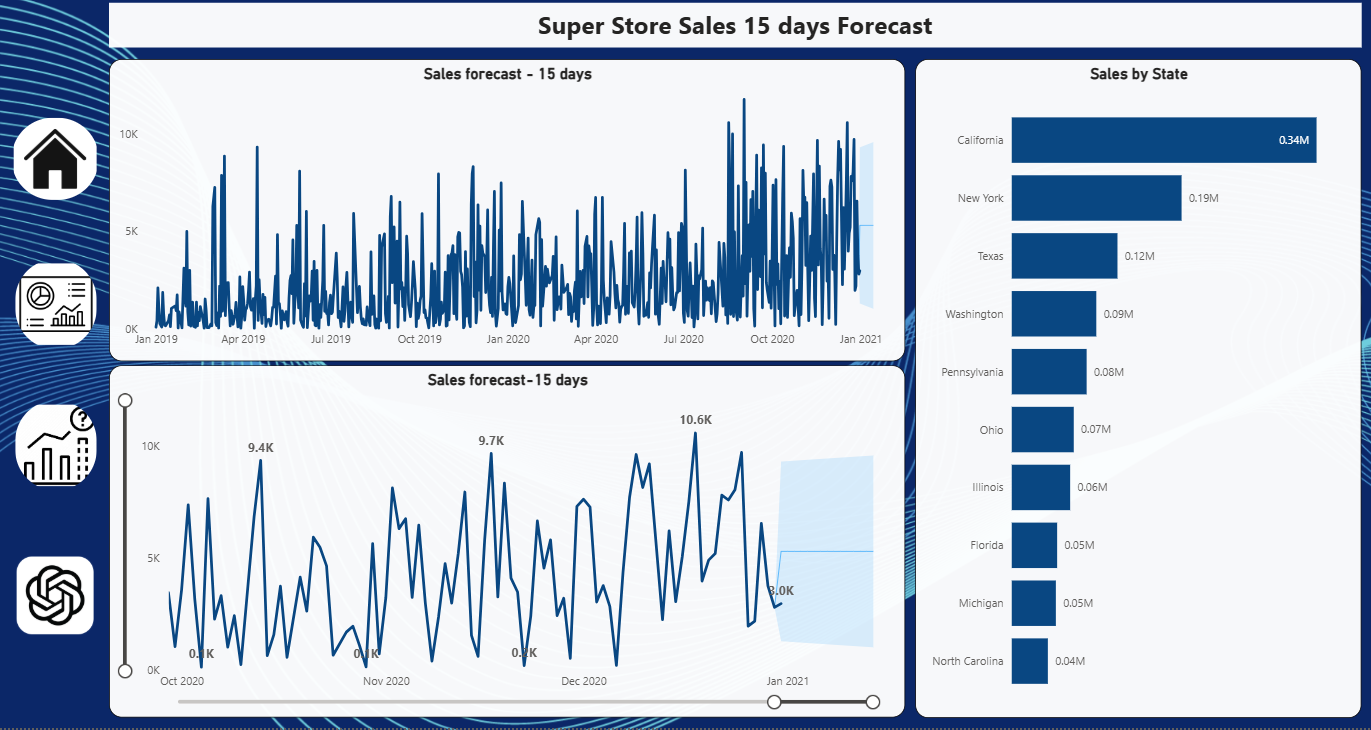

The dashboard page shown, as its layout file describes it:
{"tool":"powerbi","page":{"name":"Forecast","canvas":[1500,800],"ordinal":2},"visuals":[{"type":"lineChart","title":"Sales forecast - 15 days","fields":{"Y":["Sum(SuperStore_Sales_Dataset.Sales)"],"Category":["SuperStore_Sales_Dataset.Order Date"]},"box":[119.9,70.9,868,329.8],"z":0},{"type":"lineChart","title":"Sales forecast-15 days","fields":{"Y":["Sum(SuperStore_Sales_Dataset.Sales)"],"Category":["SuperStore_Sales_Dataset.Order Date"]},"box":[119.9,404.7,868,384.3],"z":1000},{"type":"clusteredBarChart","title":" Sales by State","fields":{"Category":["SuperStore_Sales_Dataset.State"],"Y":["Sum(SuperStore_Sales_Dataset.Sales)"]},"box":[998.8,70.9,486.5,718.1],"z":2000},{"type":"textbox","box":[119.9,9.5,1365.4,49.1],"z":3000},{"type":"image","box":[13.6,134.9,95.4,89.9],"z":4000},{"type":"image","box":[17.7,442.9,88.6,98.1],"z":5000},{"type":"image","box":[17.7,288.9,88.6,98.1],"z":6000},{"type":"image","box":[13.6,613.2,95.4,84.5],"z":7000}]}

Visuals, with their boxes in screenshot pixels (x1, y1, x2, y2), scaled from the page's 1500x800 canvas onto the 1371x730 screenshot:
"Sales forecast - 15 days" lineChart: 110,65,903,366
"Sales forecast-15 days" lineChart: 110,369,903,720
" Sales by State" clusteredBarChart: 913,65,1358,720
textbox: 110,9,1358,53
image: 12,123,100,205
image: 16,404,97,494
image: 16,264,97,353
image: 12,560,100,637
